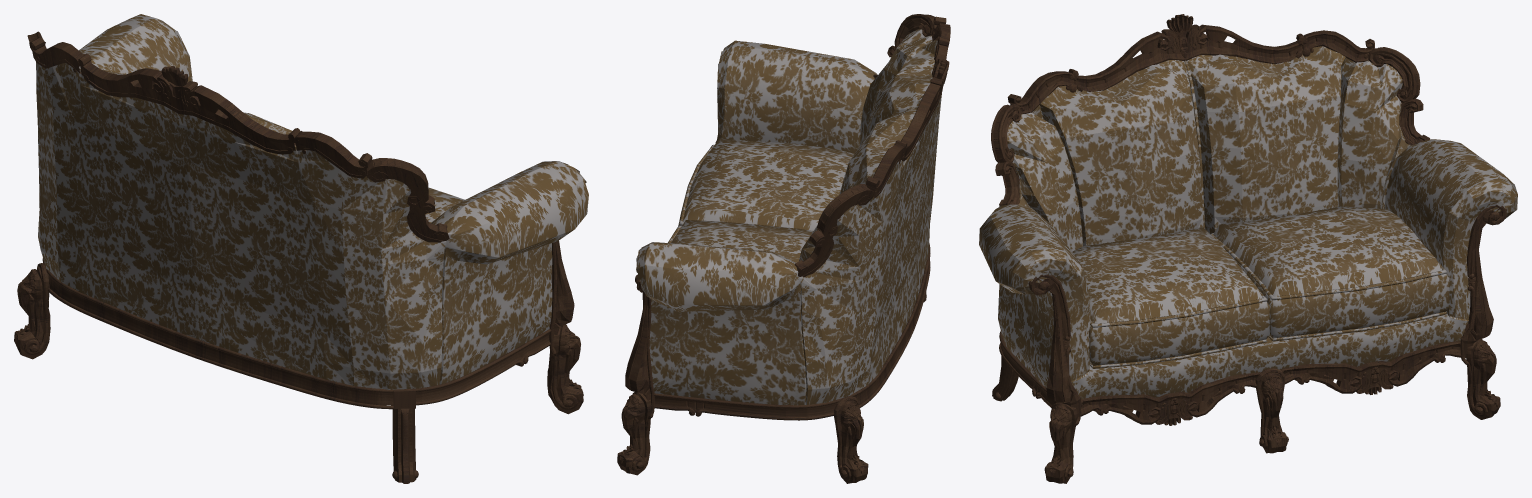
The model's file is DIvan.fbx.
3 views of the same model, side by side, from view 1: azimuth 30°, elevation 25°; view 2: azimuth 150°, elevation 25°; view 3: azimuth 270°, elevation 25° (orthographic). The views are drawn at different scales.
Visible parts, largest first — view 1: Plane05, divan; view 2: Plane05, divan; view 3: Plane05, divan.
Boxes of the visible parts, left/top/right/bottom form: Plane05: left=36, top=14, right=588, bottom=389; divan: left=14, top=31, right=583, bottom=483; Plane05: left=636, top=29, right=941, bottom=405; divan: left=617, top=14, right=950, bottom=483; Plane05: left=979, top=46, right=1517, bottom=399; divan: left=991, top=14, right=1506, bottom=483.
Bounding box in the file's own units: 1111 × 1049 × 1562.
Materials: 2 (2 with a texture image).
